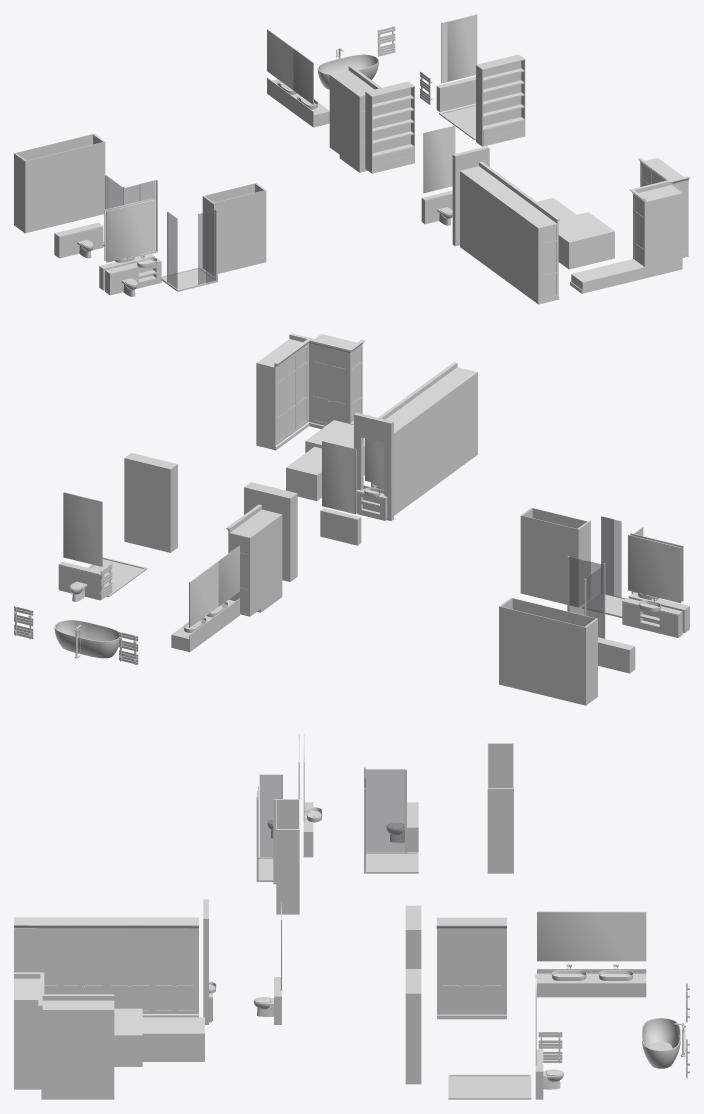
File: Storey__FirstFloor__ProposedFixtures__MeshModel__.glb
3 views of the same model, one above another, from view 1: azimuth 30°, elevation 25°; view 2: azimuth 150°, elevation 25°; view 3: azimuth 270°, elevation 25° (orthographic). The views are drawn at different scales.
Visible parts, largest first — view 1: 27__ProposedBuilding__Fixtures::Default, 27__ProposedBuilding__Fixtures::MAT000E__Generic__Grey, 27__ProposedBuilding__Fixtures::MAT140__Mirror__ClearDefault, 27__ProposedBuilding__Fixtures::MAT101__Glass__ClearDefault; view 2: 27__ProposedBuilding__Fixtures::Default, 27__ProposedBuilding__Fixtures::MAT000E__Generic__Grey, 27__ProposedBuilding__Fixtures::MAT140__Mirror__ClearDefault, 27__ProposedBuilding__Fixtures::MAT101__Glass__ClearDefault; view 3: 27__ProposedBuilding__Fixtures::MAT000E__Generic__Grey, 27__ProposedBuilding__Fixtures::Default, 27__ProposedBuilding__Fixtures::MAT140__Mirror__ClearDefault, 27__ProposedBuilding__Fixtures::MAT101__Glass__ClearDefault.
Boxes of the visible parts, bbox=[...] form: 27__ProposedBuilding__Fixtures::Default: bbox=[14, 26, 582, 295]; 27__ProposedBuilding__Fixtures::MAT000E__Generic__Grey: bbox=[372, 68, 689, 304]; 27__ProposedBuilding__Fixtures::MAT140__Mirror__ClearDefault: bbox=[104, 14, 477, 262]; 27__ProposedBuilding__Fixtures::MAT101__Glass__ClearDefault: bbox=[106, 176, 215, 288]; 27__ProposedBuilding__Fixtures::Default: bbox=[14, 412, 689, 705]; 27__ProposedBuilding__Fixtures::MAT000E__Generic__Grey: bbox=[256, 333, 477, 515]; 27__ProposedBuilding__Fixtures::MAT140__Mirror__ClearDefault: bbox=[63, 438, 683, 627]; 27__ProposedBuilding__Fixtures::MAT101__Glass__ClearDefault: bbox=[569, 516, 643, 638]; 27__ProposedBuilding__Fixtures::MAT000E__Generic__Grey: bbox=[14, 917, 204, 1099]; 27__ProposedBuilding__Fixtures::Default: bbox=[203, 743, 689, 1099]; 27__ProposedBuilding__Fixtures::MAT140__Mirror__ClearDefault: bbox=[281, 734, 646, 1065]; 27__ProposedBuilding__Fixtures::MAT101__Glass__ClearDefault: bbox=[257, 769, 404, 878].
Bounding box in the file's own units: 16.53 × 3 × 17.35.
5 materials, 1 textured.
